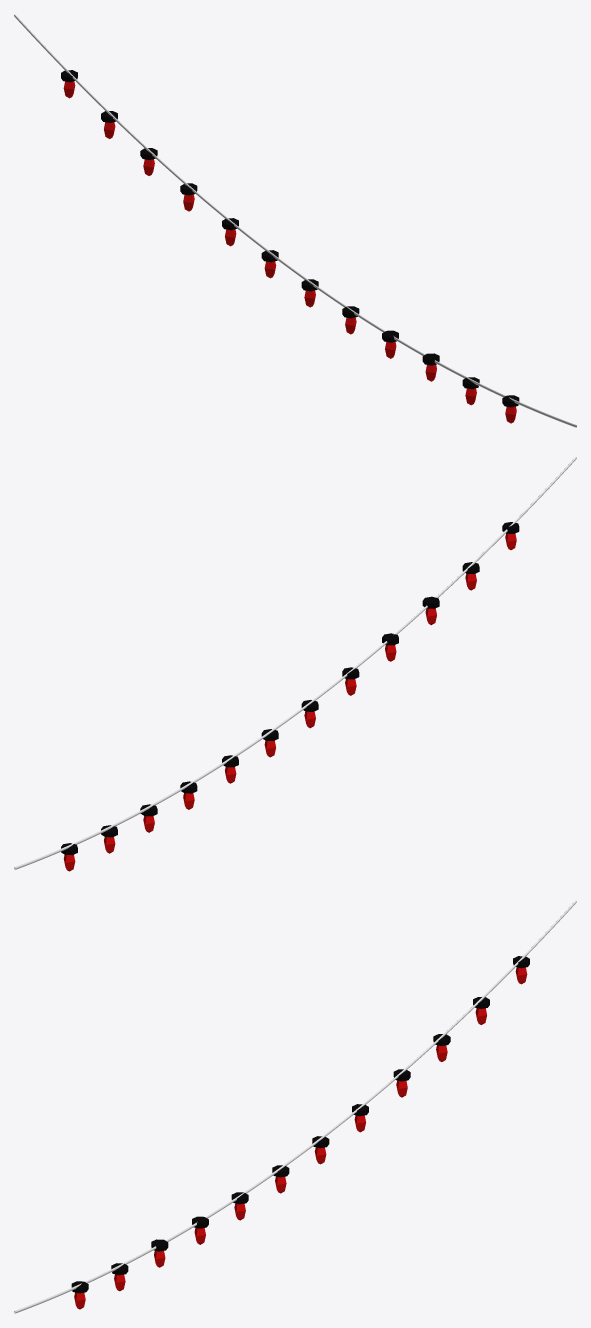
File: гирлянда.fbx
The picture shows the model from 3 angles, top to bottom: view 1: azimuth 30°, elevation 25°; view 2: azimuth 150°, elevation 25°; view 3: azimuth 330°, elevation 25°; orthographic projection.
Parts seen in each view (by area): view 1: Cylinder.011, Catenary; view 2: Cylinder.011, Catenary; view 3: Cylinder.011, Catenary.
Part boxes in pixels (x1=…): Cylinder.011: x1=61, y1=70, x2=519, y2=407; Catenary: x1=14, y1=14, x2=576, y2=427; Cylinder.011: x1=61, y1=522, x2=519, y2=855; Catenary: x1=14, y1=456, x2=576, y2=869; Cylinder.011: x1=71, y1=956, x2=529, y2=1293; Catenary: x1=14, y1=900, x2=576, y2=1313.
Size of the model in its own units: 21.27 by 106 by 1398.
